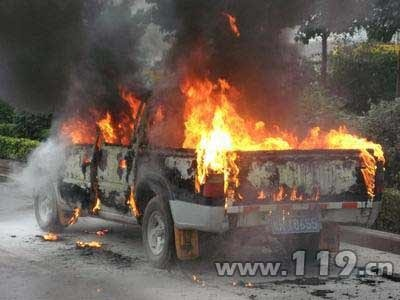fire: (178, 73, 389, 197), (58, 88, 148, 147)
